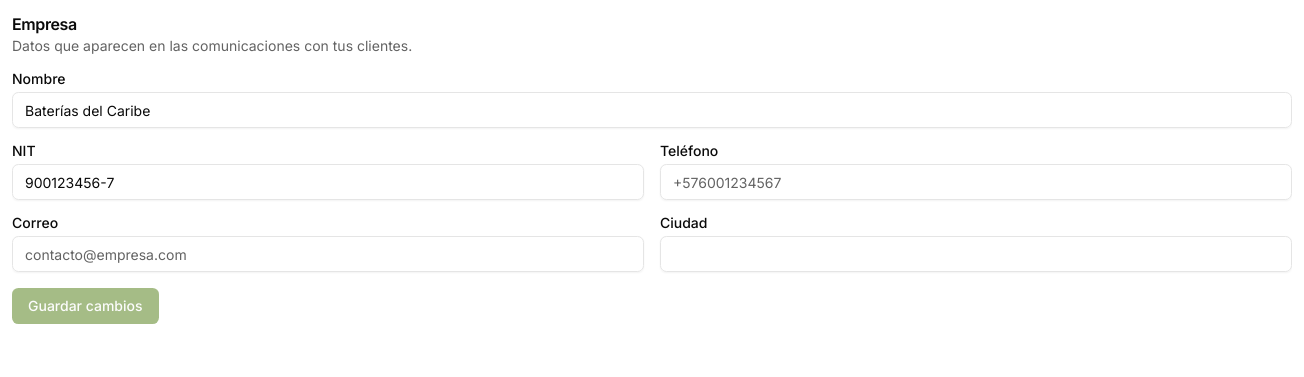
Test case: EmpresaSection › un fallo inesperado muestra el texto genérico
Check: the field showing "Baterías del Caribe" is shown, box 12,92 -> 1292,128
Type "Cali" into the field labelled "Ciudad". click: (976, 254)
box: 660,236 -> 1292,272
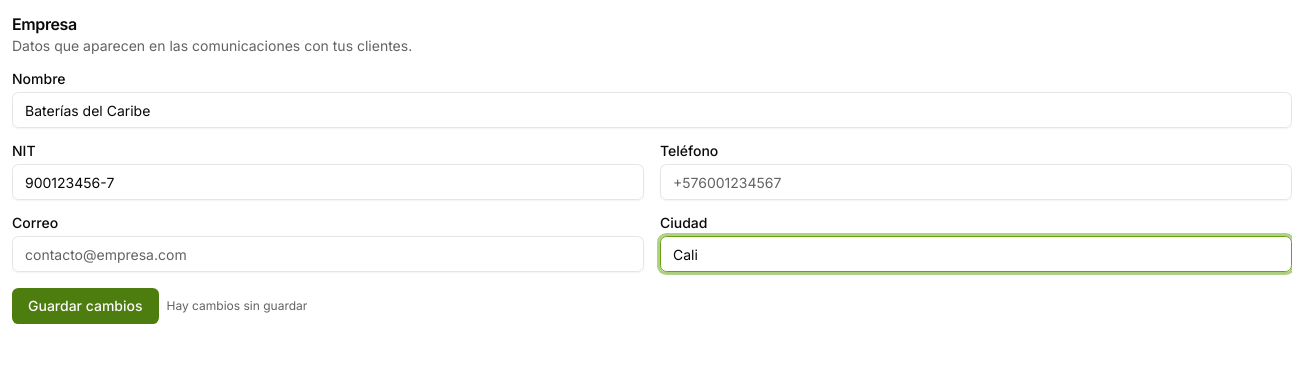
Click the button "Guardar cambios". click: (85, 306)
box: 12,288 -> 158,324
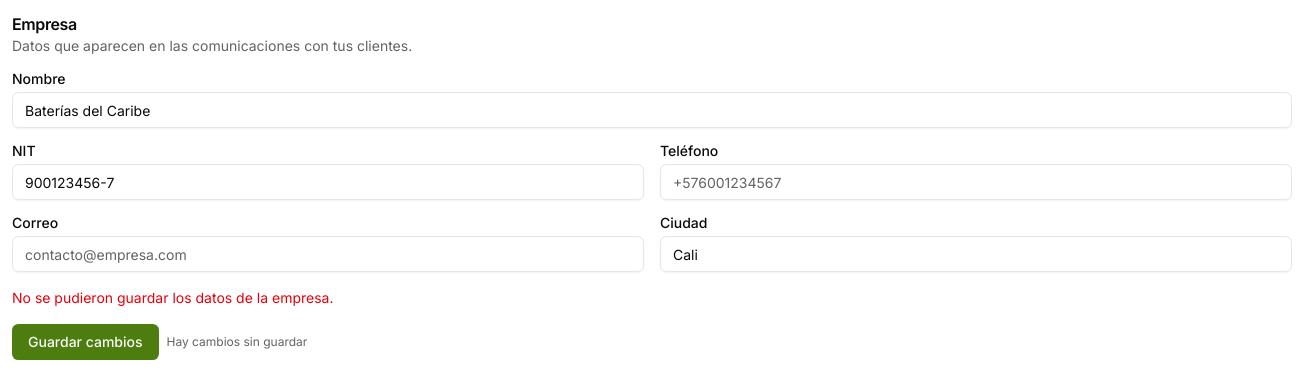
Check: the message reads "No se pudieron guardar los datos de la empresa.", box 12,289 -> 334,306
